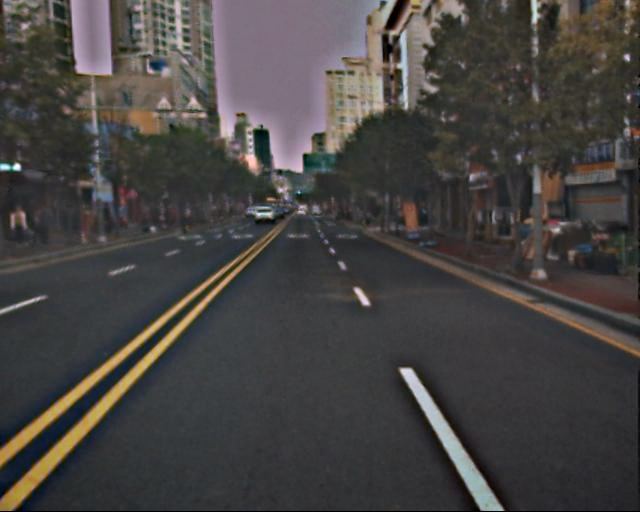person: (8, 204, 29, 256), (30, 204, 49, 251)
